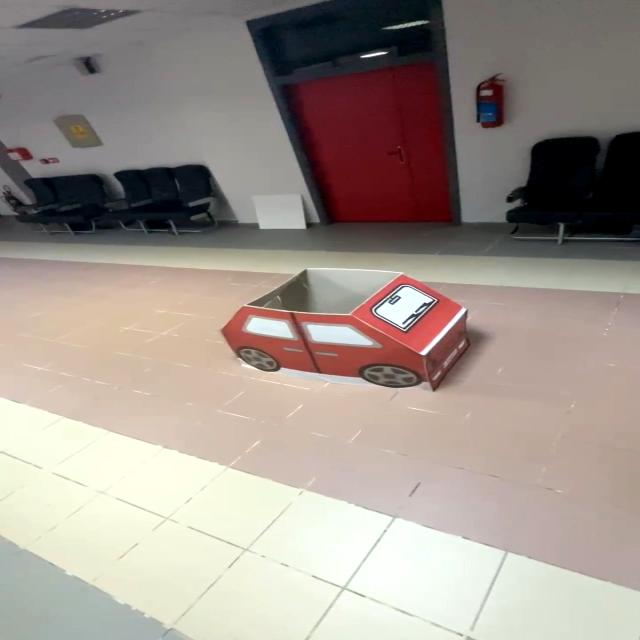red_car: (178, 248, 500, 423)
